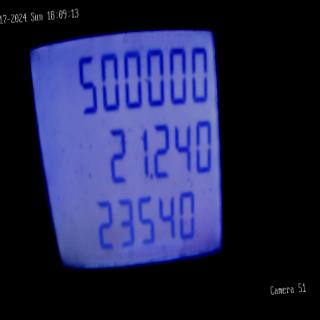screen: (18, 0, 243, 306)
